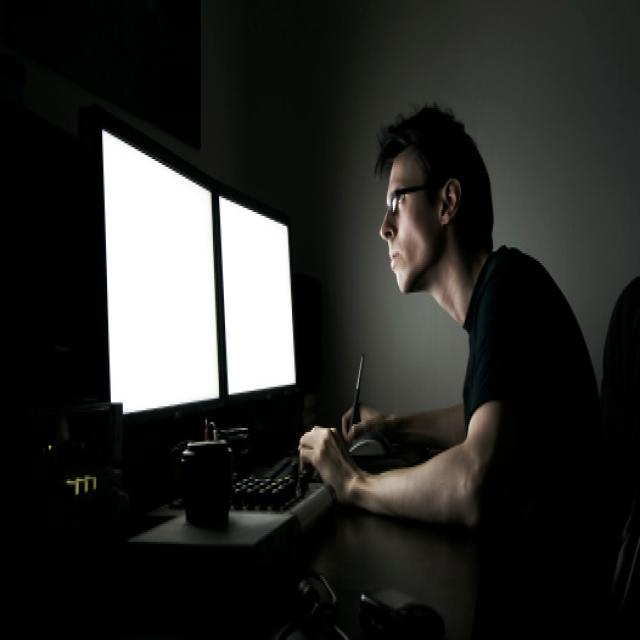Cup: (179, 412, 237, 533)
People: (368, 90, 633, 640)
Table: (0, 329, 640, 640)
